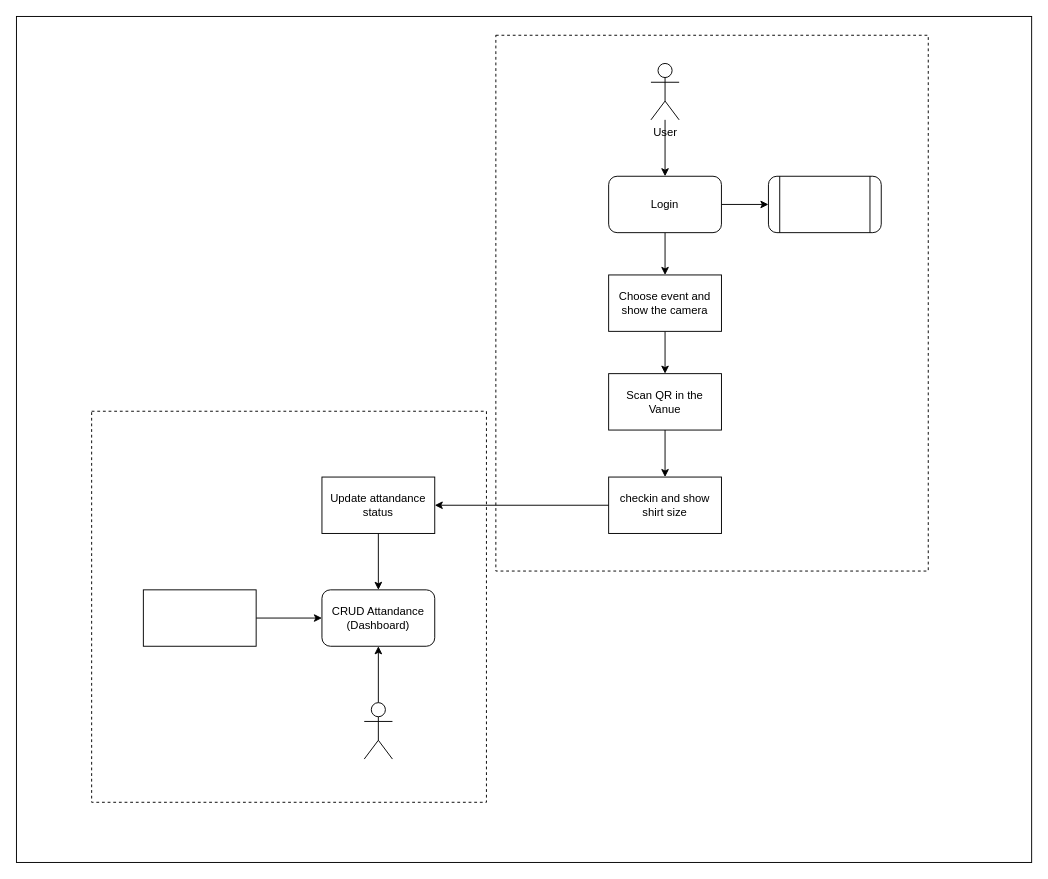
The diagram is 1048 pixels wide and 879 high, and some of its shapes have lost their labels. Here are the shapes that lost their labels. From the top down, the box of each, then its label:
(768, 175, 881, 233): phone_number
(142, 589, 256, 646): Import attandance from google-form
(363, 702, 392, 759): Admin
